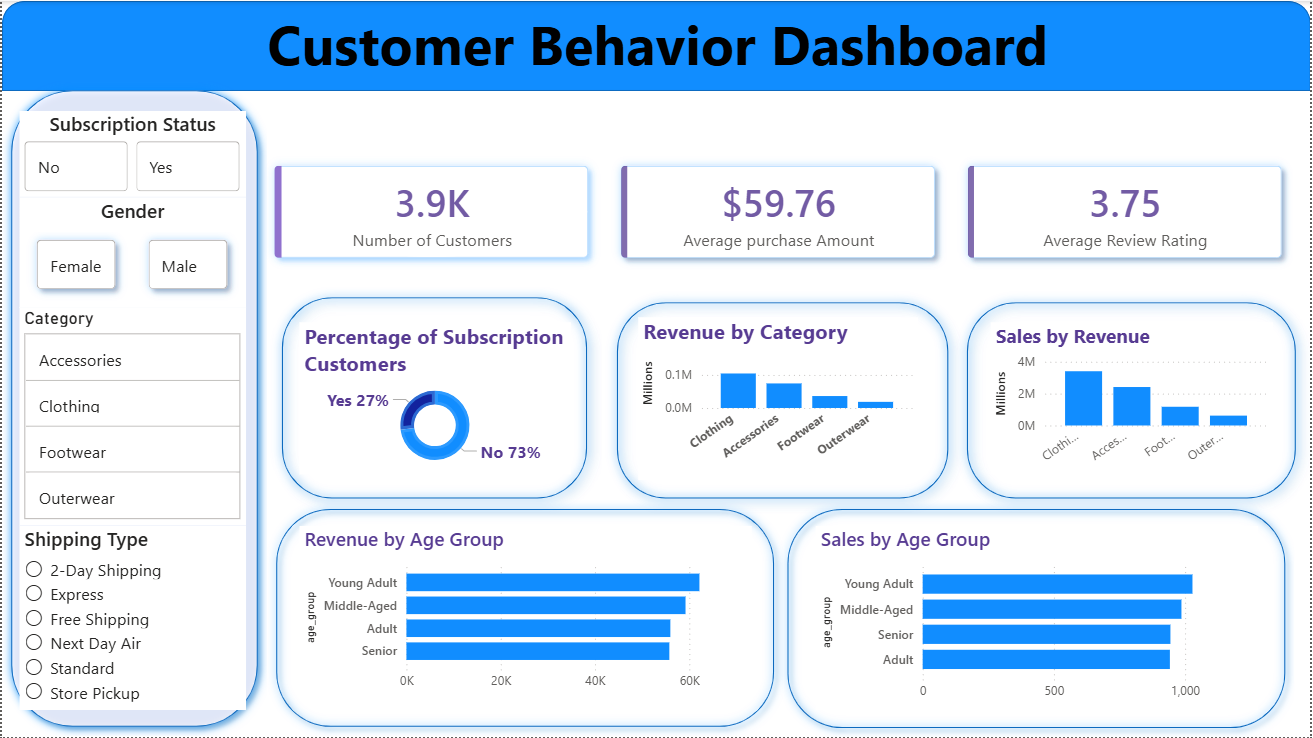

The dashboard page shown, as its layout file describes it:
{"tool":"powerbi","page":{"name":"Page 1","canvas":[1280,720],"ordinal":0},"visuals":[{"type":"shape","box":[0,0,1280.3,88],"z":0},{"type":"textbox","box":[63.6,0,1098.1,99],"z":1000},{"type":"shape","box":[259.2,275.1,327.7,226.2],"z":2000},{"type":"shape","box":[929.4,280,351,221.3],"z":3000},{"type":"shape","box":[587,280,353.4,221.3],"z":4000},{"type":"cardVisual","fields":{"Data":["public customer.Number of Customers","public customer.Average purchase Amount","public customer.Average Review Rating"]},"box":[238.5,133.3,1041.9,146.7],"z":5000},{"type":"donutChart","title":"Percentage of Subscription Customers","fields":{"Category":["public customer.subscription_status"],"Y":["CountNonNull(public customer.customer_id)"]},"box":[291,314.3,265.4,149.2],"z":6000},{"type":"clusteredColumnChart","title":"Revenue by Category","fields":{"Y":["Sum(public customer.purchase_amount)"],"Category":["public customer.category"]},"box":[622.4,309.4,273.9,159],"z":7000},{"type":"clusteredColumnChart","title":"Sales by Revenue","fields":{"Y":["Sum(public customer.customer_id)"],"Category":["public customer.category"]},"box":[967.3,314.3,276.4,149.2],"z":8000},{"type":"shape","box":[0,78.3,259.2,640.8],"z":9000},{"type":"advancedSlicerVisual","title":"Subscription Status","fields":{"Values":["public customer.subscription_status"]},"box":[17.1,107.6,221.3,84.4],"z":10000},{"type":"advancedSlicerVisual","title":"Gender","fields":{"Values":["public customer.gender"]},"box":[17.1,192,221.3,107.6],"z":11000},{"type":"listSlicer","title":"Shipping Type","fields":{"Values":["public customer.shipping_type"]},"box":[17.1,513.6,221.3,179.8],"z":12000},{"type":"advancedSlicerVisual","title":"Category","fields":{"Values":["public customer.category"]},"box":[17.1,299.6,221.3,214],"z":13000},{"type":"textbox","box":[940,501,340,218],"z":14000},{"type":"shape","box":[259.2,487.9,505,231.1],"z":15000},{"type":"shape","box":[759.4,487.9,505,232.3],"z":16000},{"type":"clusteredBarChart","title":"Revenue by Age Group","fields":{"Y":["Sum(public customer.purchase_amount)"],"Category":["public customer.age_group"]},"box":[291,513.6,442.7,170],"z":16001},{"type":"clusteredBarChart","title":"Sales by Age Group","fields":{"Y":["CountNonNull(public customer.customer_id)"],"Category":["public customer.age_group"]},"box":[796.1,513.6,432.9,179.8],"z":16002}]}

Visuals, with their boxes in screenshot pixels (x1, y1, x2, y2), scaled from the page's 1280x720 canvas onto the 1313x738 screenshot:
shape: 0, 0, 1312, 90
textbox: 65, 0, 1192, 101
shape: 266, 282, 602, 514
shape: 953, 287, 1312, 514
shape: 602, 287, 965, 514
cardVisual - public customer.Number of Customers x public customer.Average purchase Amount: 245, 137, 1312, 287
"Percentage of Subscription Customers" donutChart: 299, 322, 571, 475
"Revenue by Category" clusteredColumnChart: 638, 317, 919, 480
"Sales by Revenue" clusteredColumnChart: 992, 322, 1276, 475
shape: 0, 80, 266, 737
"Subscription Status" advancedSlicerVisual: 18, 110, 245, 197
"Gender" advancedSlicerVisual: 18, 197, 245, 307
"Shipping Type" listSlicer: 18, 526, 245, 711
"Category" advancedSlicerVisual: 18, 307, 245, 526
textbox: 964, 514, 1312, 737
shape: 266, 500, 784, 737
shape: 779, 500, 1297, 737
"Revenue by Age Group" clusteredBarChart: 299, 526, 753, 701
"Sales by Age Group" clusteredBarChart: 817, 526, 1261, 711
